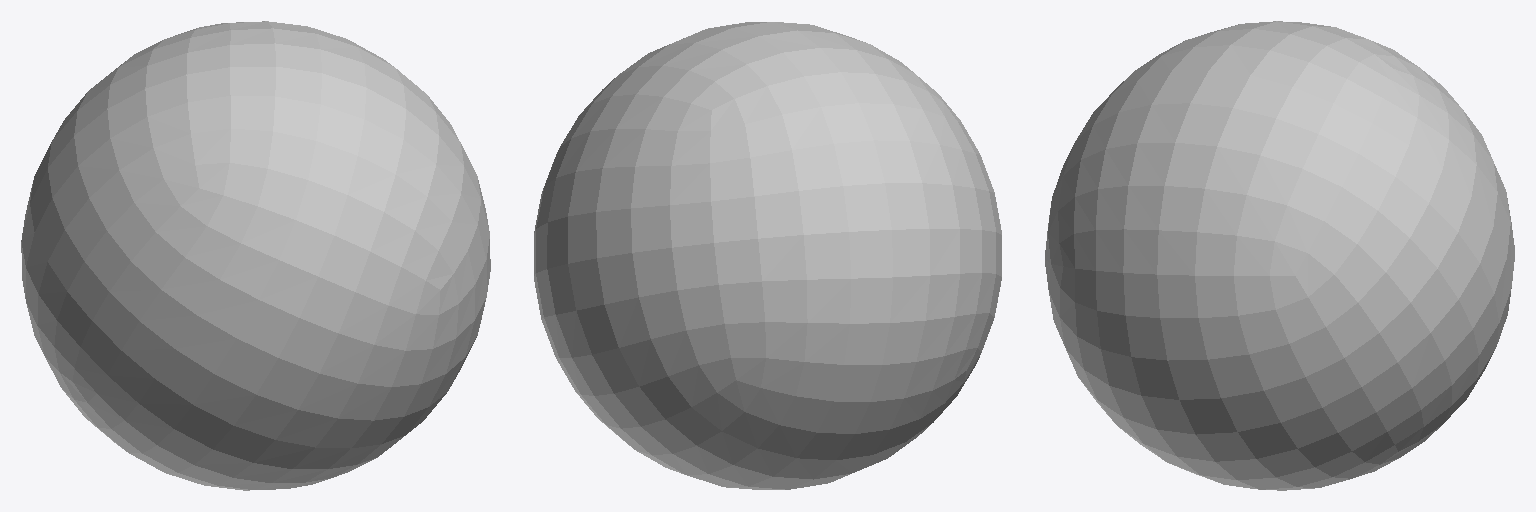
File: moon.obj
3 renders of one model, left to right at view 1: azimuth 30°, elevation 25°; view 2: azimuth 150°, elevation 25°; view 3: azimuth 270°, elevation 25°, orthographic.
Parts seen in each view (by area): view 1: Moon_Cube.002; view 2: Moon_Cube.002; view 3: Moon_Cube.002.
Part boxes in pixels (x1,y1,x2,y2): Moon_Cube.002: (21, 21, 490, 490); Moon_Cube.002: (534, 22, 1001, 489); Moon_Cube.002: (1045, 21, 1514, 490).
Bounding box in the file's own units: 3.45 × 3.44 × 3.45.